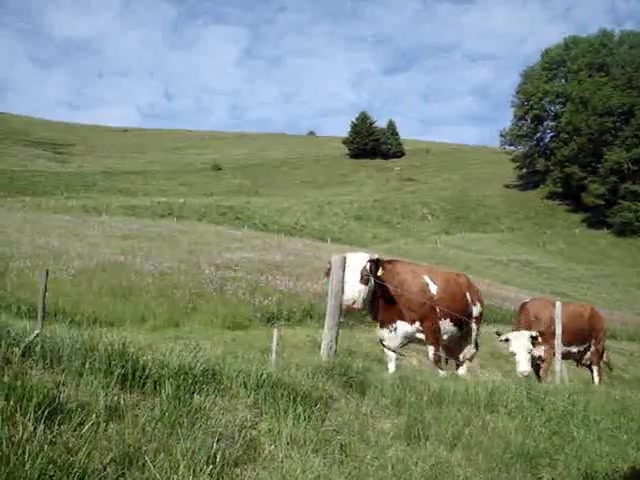cow: (346, 250, 485, 376)
